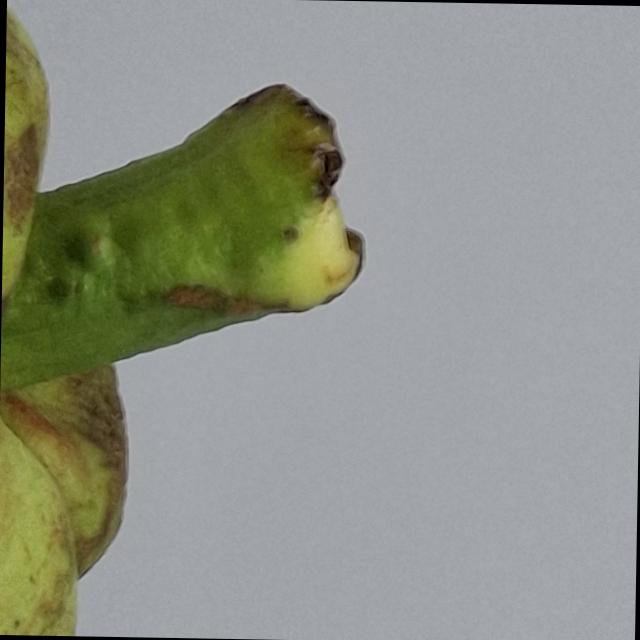mangosteen: (0, 0, 345, 640)
